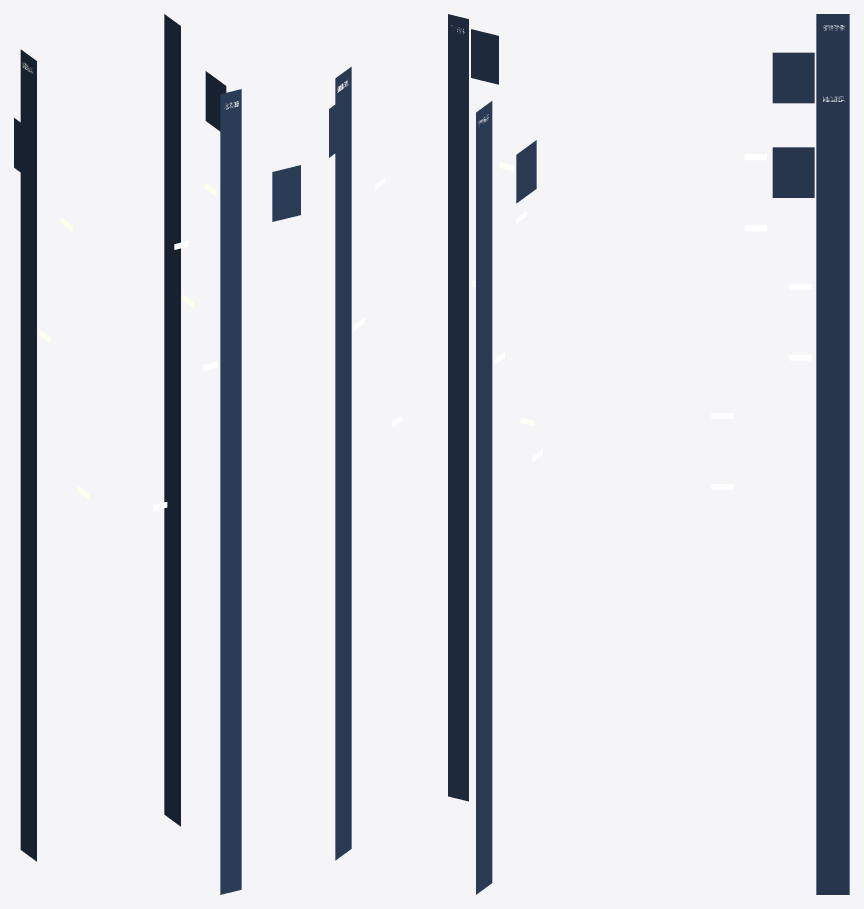
File: SM_MM_A01_Facade.fbx
3 views of the same model, side by side, from view 1: azimuth 30°, elevation 25°; view 2: azimuth 150°, elevation 25°; view 3: azimuth 270°, elevation 25° (orthographic). The views are drawn at different scales.
Parts seen in each view (by area): view 1: SM_MM_A01_Facade; view 2: SM_MM_A01_Facade; view 3: SM_MM_A01_Facade.
Part boxes in pixels (x1,y1,x2,y2): SM_MM_A01_Facade: [14, 14, 300, 894]; SM_MM_A01_Facade: [329, 14, 542, 894]; SM_MM_A01_Facade: [711, 14, 849, 894].
Bounding box in the file's own units: 24.05 × 29.91 × 96.
